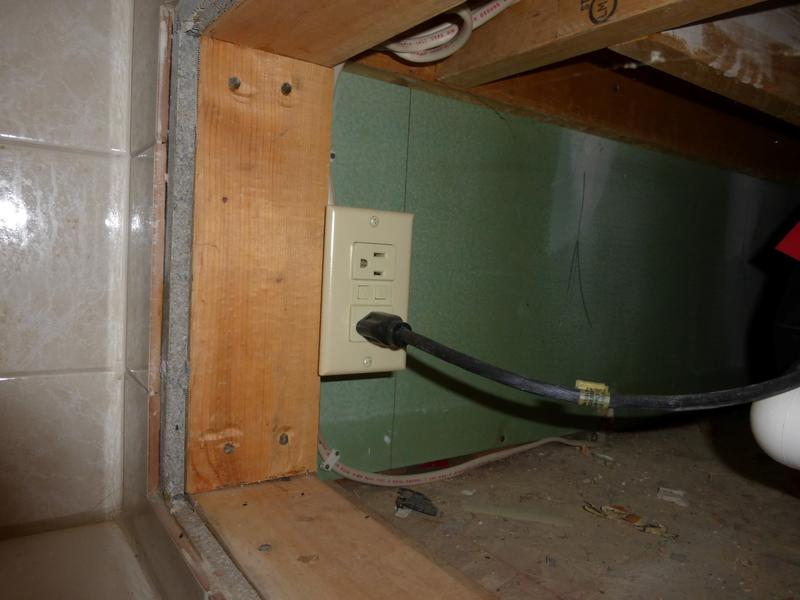outlet: (356, 246, 391, 278)
